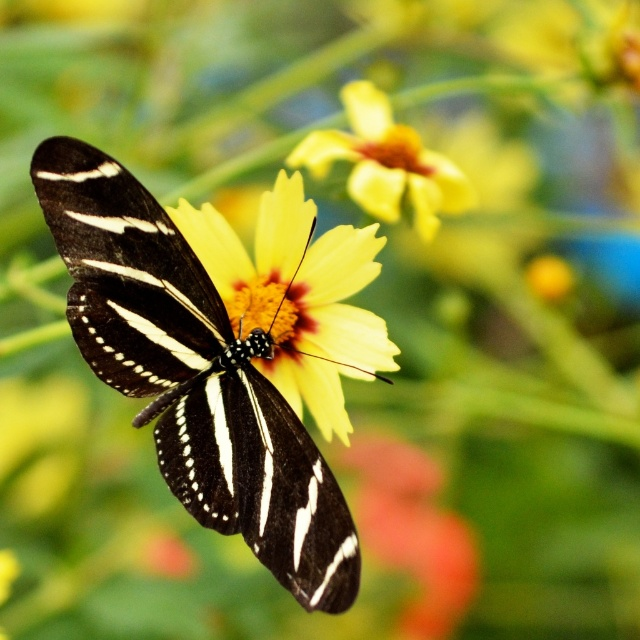Butterfly: (29, 135, 394, 616)
